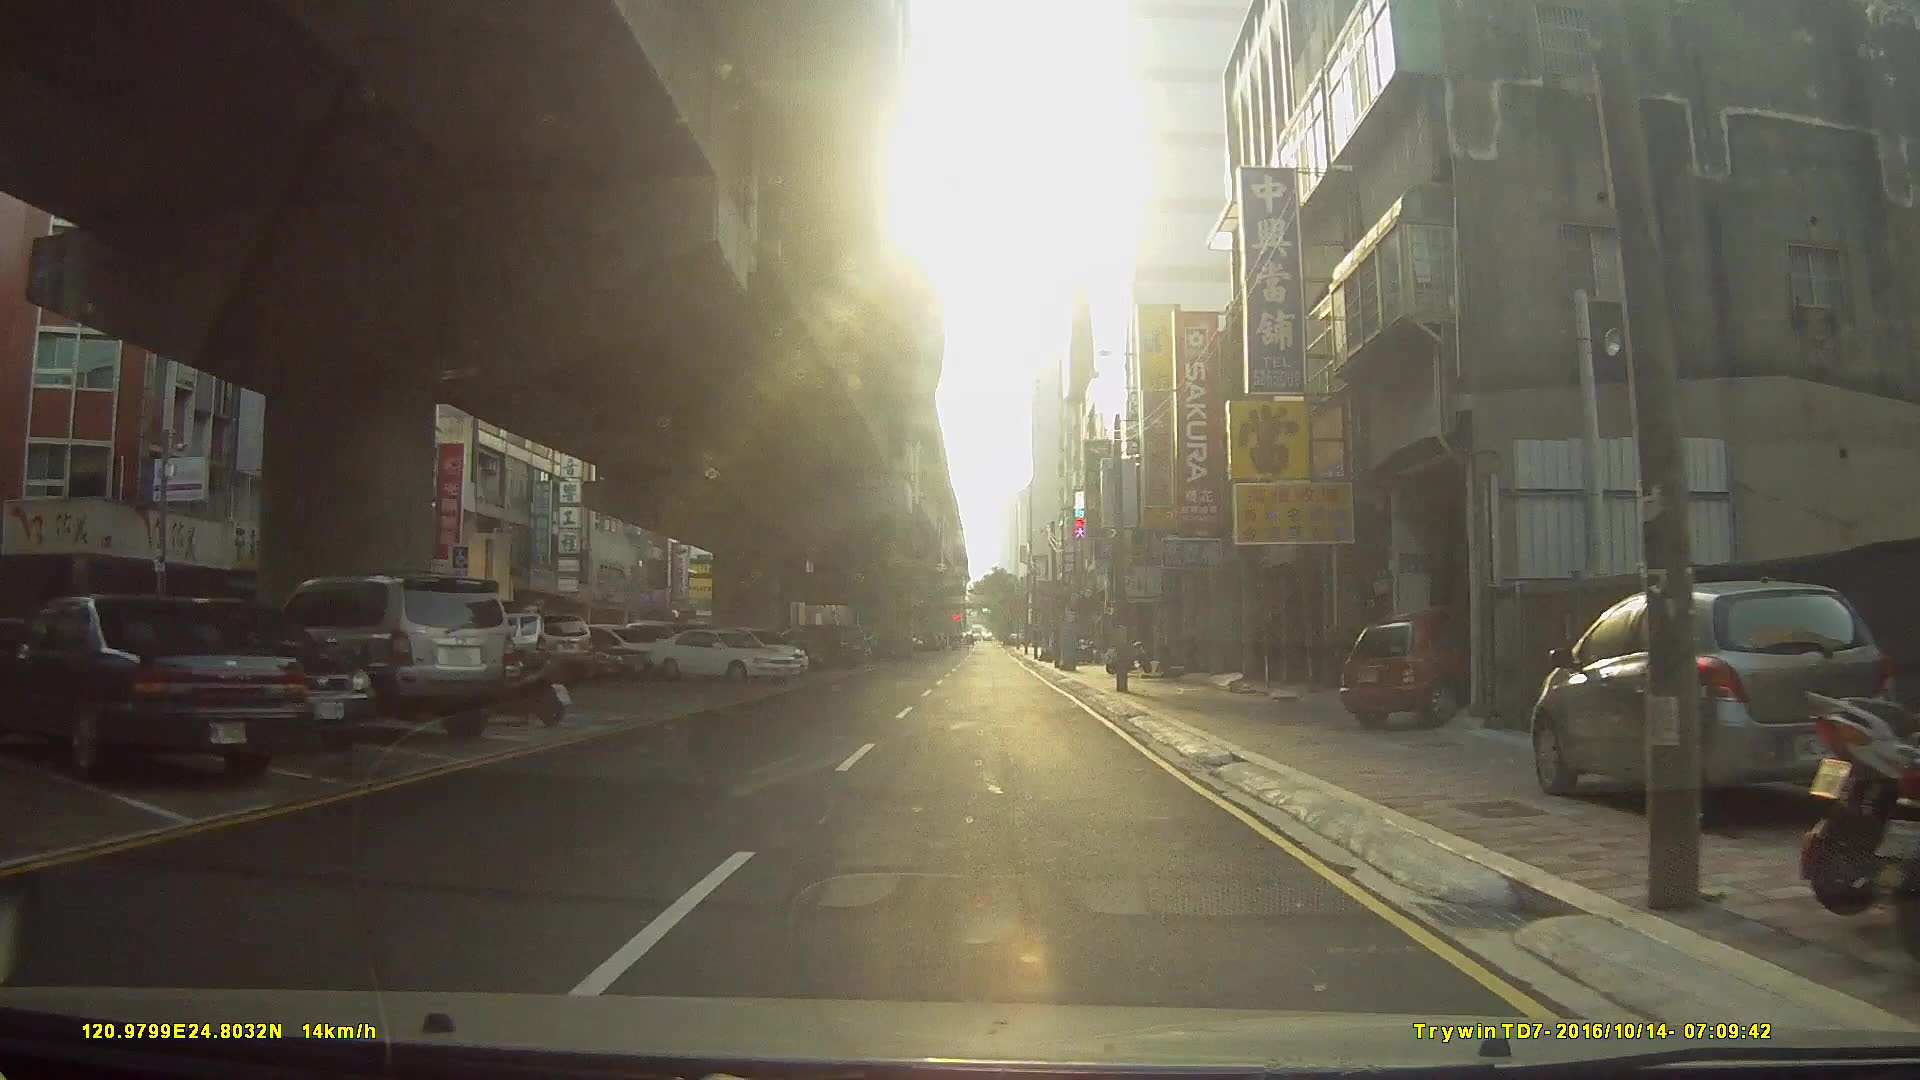vehicle: (1530, 575, 1894, 816), (0, 591, 309, 781), (255, 571, 522, 738), (116, 597, 378, 752), (1340, 605, 1513, 727), (644, 622, 800, 682), (498, 624, 651, 684), (471, 611, 592, 680)
